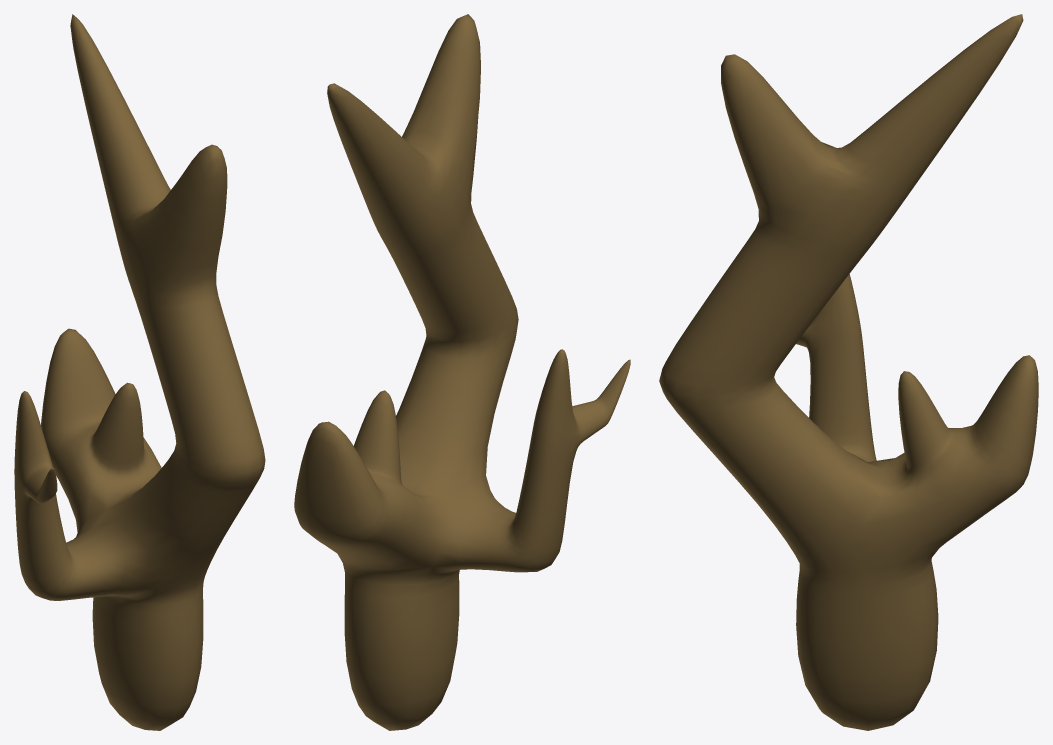
File: coral16.fbx
The picture shows the model from 3 angles, left to right: view 1: azimuth 30°, elevation 25°; view 2: azimuth 150°, elevation 25°; view 3: azimuth 270°, elevation 25°; orthographic projection. The views are drawn at different scales.
Parts seen in each view (by area): view 1: hard coral 002; view 2: hard coral 002; view 3: hard coral 002.
Boxes of the visible parts, box(x1,y1,x2,y2) form: hard coral 002: box(14, 14, 265, 730); hard coral 002: box(294, 14, 630, 730); hard coral 002: box(659, 14, 1038, 730).
Size of the model in its own units: 314 by 989 by 478.
